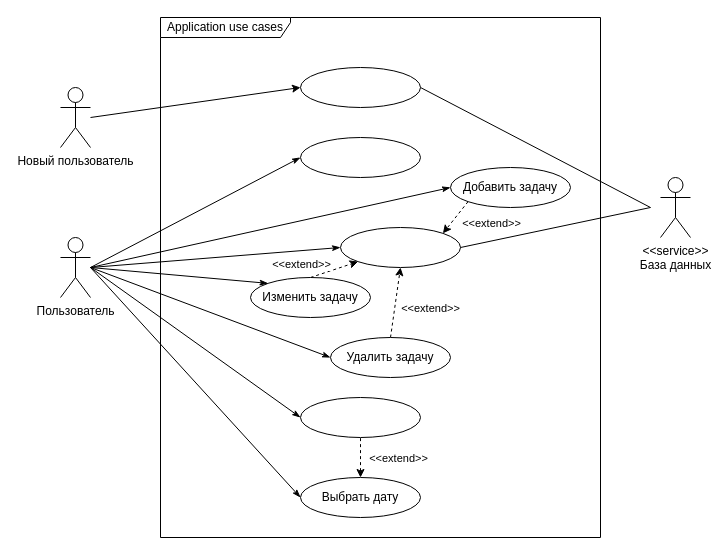
The diagram is 728 pixels wide and 555 high, and some of its shapes have lost their labels. Each missing label, with the centre of its shape:
Открыть календарь: (360,417)
Открыть профиль: (360,157)
Регистрация: (360,87)
Управление задачами: (400,247)
